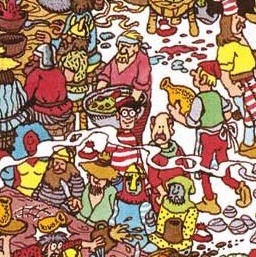waldo: (110, 88, 146, 169), (112, 89, 143, 132)
